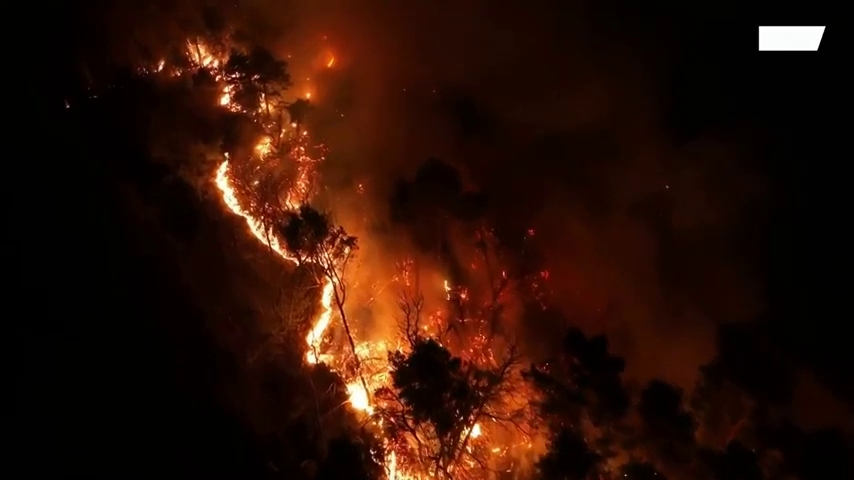forest_fire: (187, 39, 532, 478), (444, 281, 468, 312), (749, 416, 777, 437), (315, 51, 344, 68), (516, 228, 532, 243), (204, 167, 210, 188), (436, 237, 445, 249), (325, 56, 334, 66), (156, 62, 163, 71), (503, 273, 506, 285), (457, 327, 461, 333), (343, 251, 349, 255), (304, 474, 312, 476), (304, 95, 309, 98), (312, 392, 315, 395), (358, 185, 361, 188), (295, 102, 298, 104), (449, 180, 452, 182), (271, 66, 273, 68), (750, 416, 751, 420), (383, 285, 384, 288), (345, 248, 347, 249), (321, 240, 322, 242), (281, 81, 282, 83), (312, 129, 313, 131), (561, 317, 562, 318)
